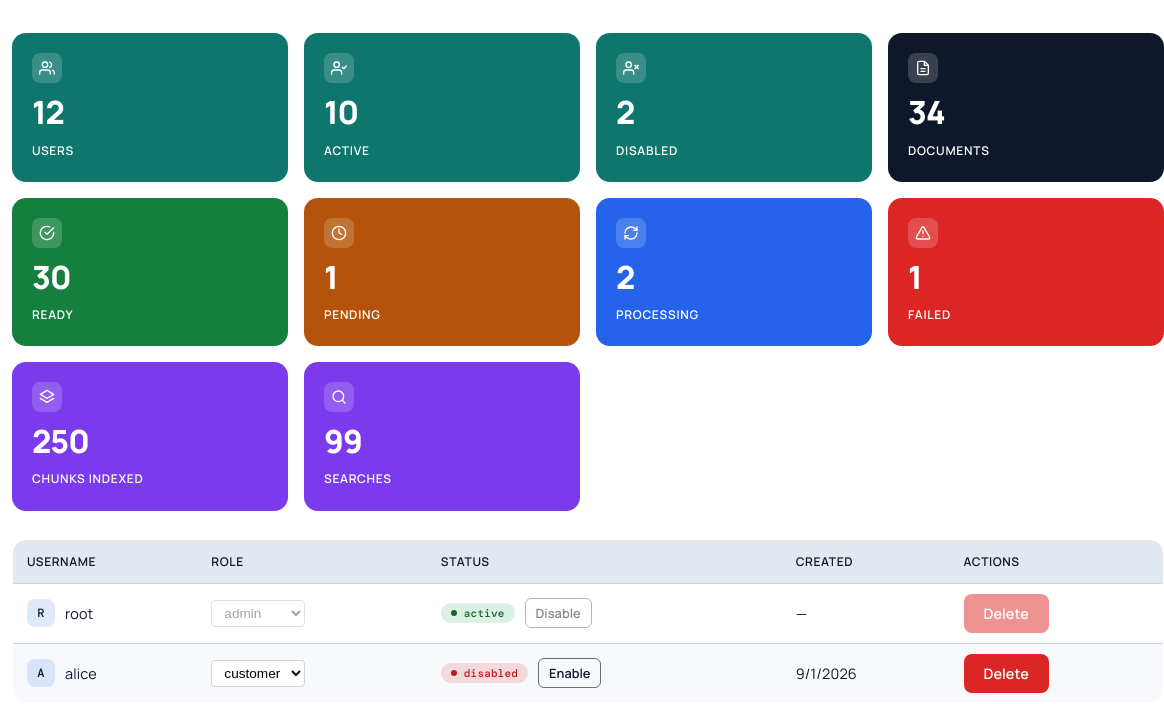
Test: AdminPage › enables a user via the activation toggle
The width and height of the screenshot is (1164, 704).
(page scrolled)
Click the button with aria-label "Enable alice" at (570, 673), box top-left (538, 658), bottom-right (602, 688)
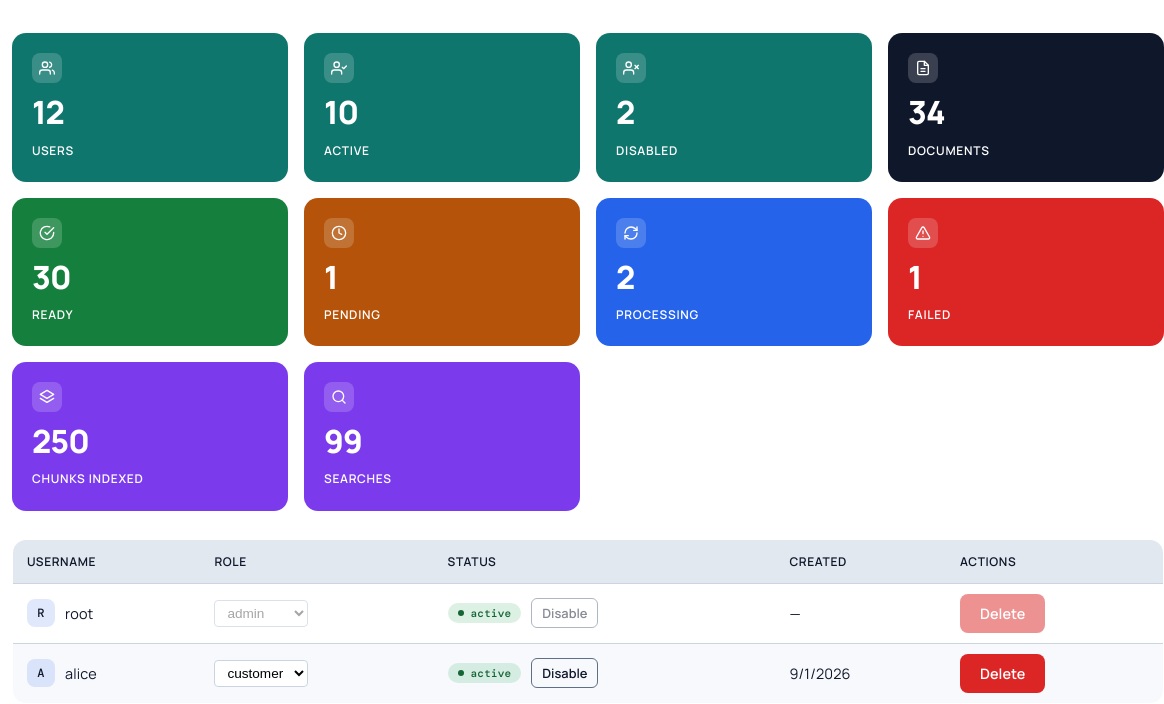
Check: the button with aria-label "Disable alice" is shown, box top-left (531, 658), bottom-right (598, 688)
